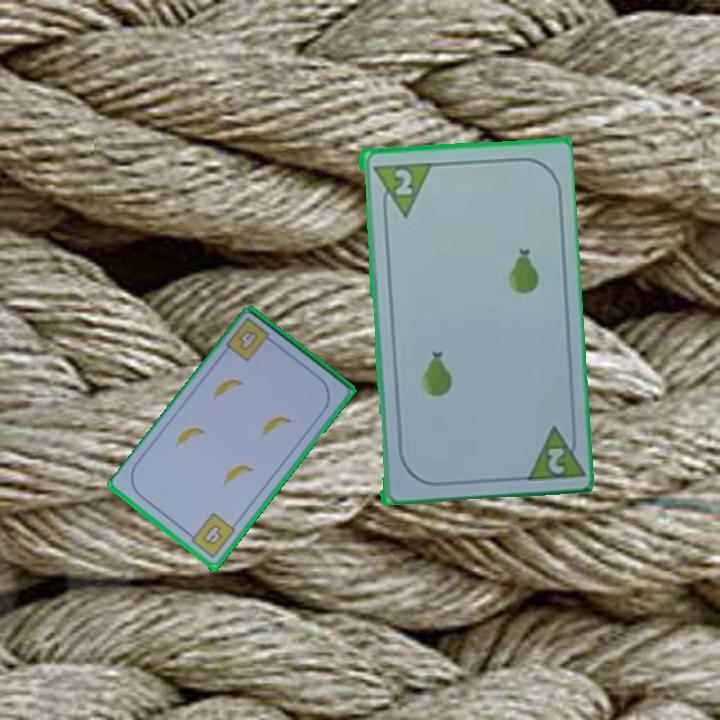2p: (369, 158, 432, 220), (543, 443, 567, 477)
4b: (183, 510, 238, 562), (235, 327, 261, 354)
